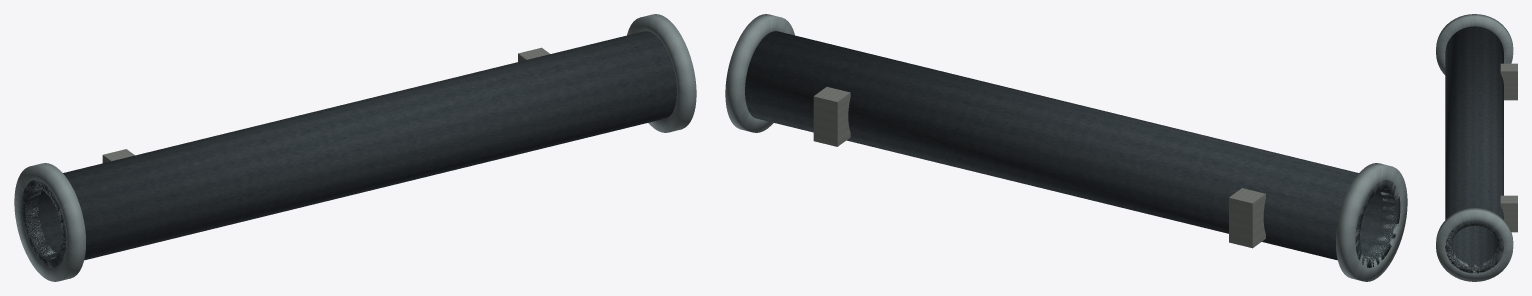
Rendered from PZ_WWT_04_Pipe_DN600_6m.glb.
3 renders of one model, left to right at view 1: azimuth 30°, elevation 25°; view 2: azimuth 150°, elevation 25°; view 3: azimuth 270°, elevation 25°, orthographic. The views are drawn at different scales.
Visible parts, largest first — view 1: PIP_DN600_Hollow_Barrel, PIP_DN600_EndFlange_0, PIP_DN600_EndFlange_1; view 2: PIP_DN600_Hollow_Barrel, PIP_DN600_EndFlange_0, PIP_DN600_EndFlange_1, PIP_DN600_Support_5, PIP_DN600_Support_1; view 3: PIP_DN600_Hollow_Barrel, PIP_DN600_EndFlange_1, PIP_DN600_EndFlange_0, PIP_DN600_Support_1, PIP_DN600_Support_5.
Part boxes in pixels (bbox=[...]): PIP_DN600_Hollow_Barrel: bbox=[21, 31, 676, 267]; PIP_DN600_EndFlange_0: bbox=[14, 163, 85, 281]; PIP_DN600_EndFlange_1: bbox=[627, 14, 696, 132]; PIP_DN600_Hollow_Barrel: bbox=[745, 31, 1400, 267]; PIP_DN600_EndFlange_0: bbox=[1336, 163, 1407, 281]; PIP_DN600_EndFlange_1: bbox=[725, 14, 794, 132]; PIP_DN600_Support_5: bbox=[813, 87, 850, 146]; PIP_DN600_Support_1: bbox=[1229, 188, 1265, 248]; PIP_DN600_Hollow_Barrel: bbox=[1445, 26, 1503, 273]; PIP_DN600_EndFlange_1: bbox=[1436, 208, 1513, 281]; PIP_DN600_EndFlange_0: bbox=[1436, 14, 1513, 75]; PIP_DN600_Support_1: bbox=[1500, 63, 1517, 100]; PIP_DN600_Support_5: bbox=[1500, 195, 1517, 232].
Size of the model in its own units: 6 by 0.99 by 1.05.
1 material, 1 textured.
